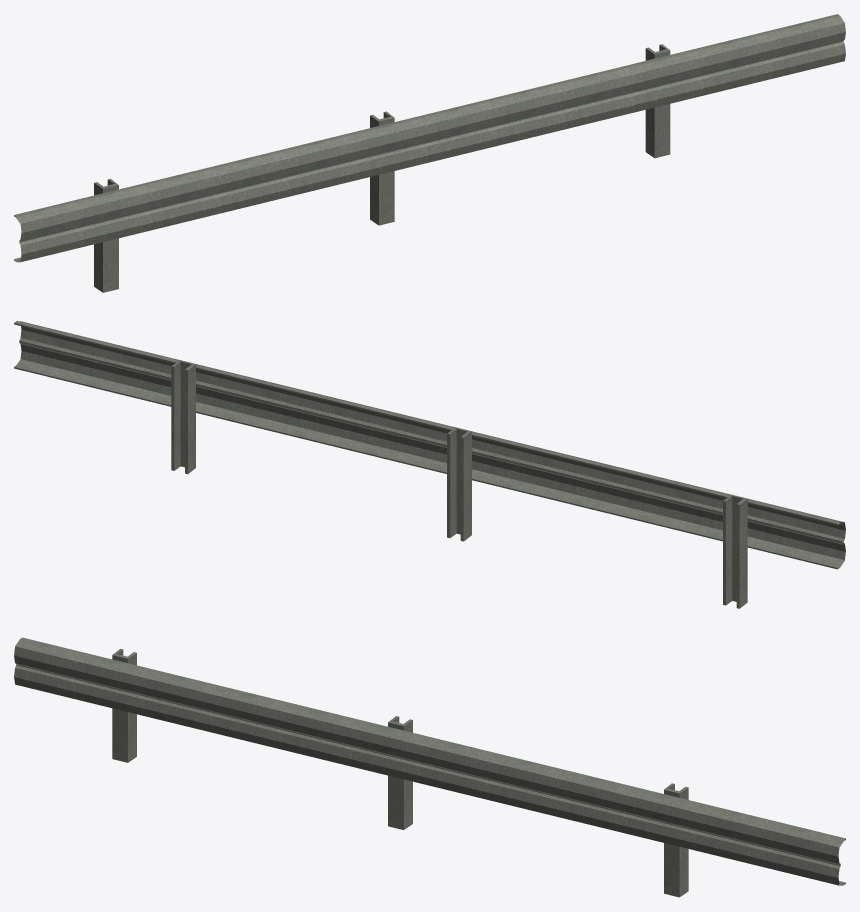
File: CIV_WBarrier_Straight_002.fbx
3 views of the same model, one above another, from view 1: azimuth 30°, elevation 25°; view 2: azimuth 150°, elevation 25°; view 3: azimuth 330°, elevation 25° (orthographic).
Parts seen in each view (by area): view 1: CIV_WBarrier_Straight_002; view 2: CIV_WBarrier_Straight_002; view 3: CIV_WBarrier_Straight_002.
Boxes of the visible parts, x1,y1,x2,y2 form: CIV_WBarrier_Straight_002: (14, 14, 845, 292); CIV_WBarrier_Straight_002: (14, 321, 845, 608); CIV_WBarrier_Straight_002: (14, 637, 845, 897).
Bounding box in the file's own units: 597 × 72.71 × 21.72.
